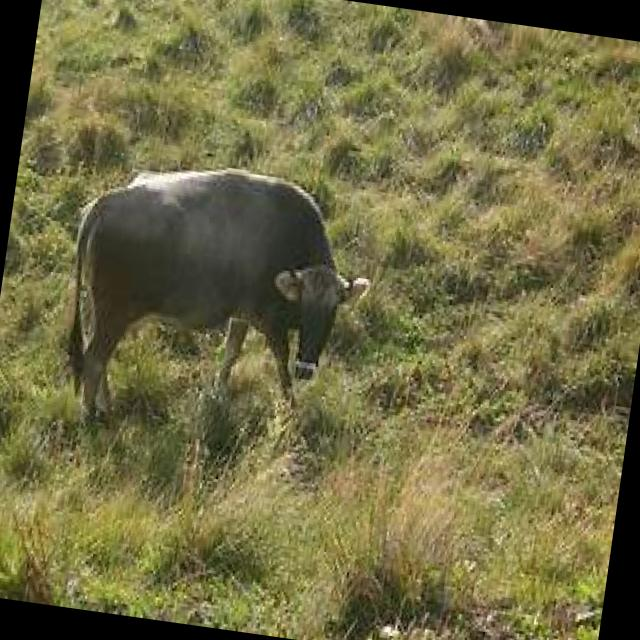animal: (54, 149, 380, 447)
